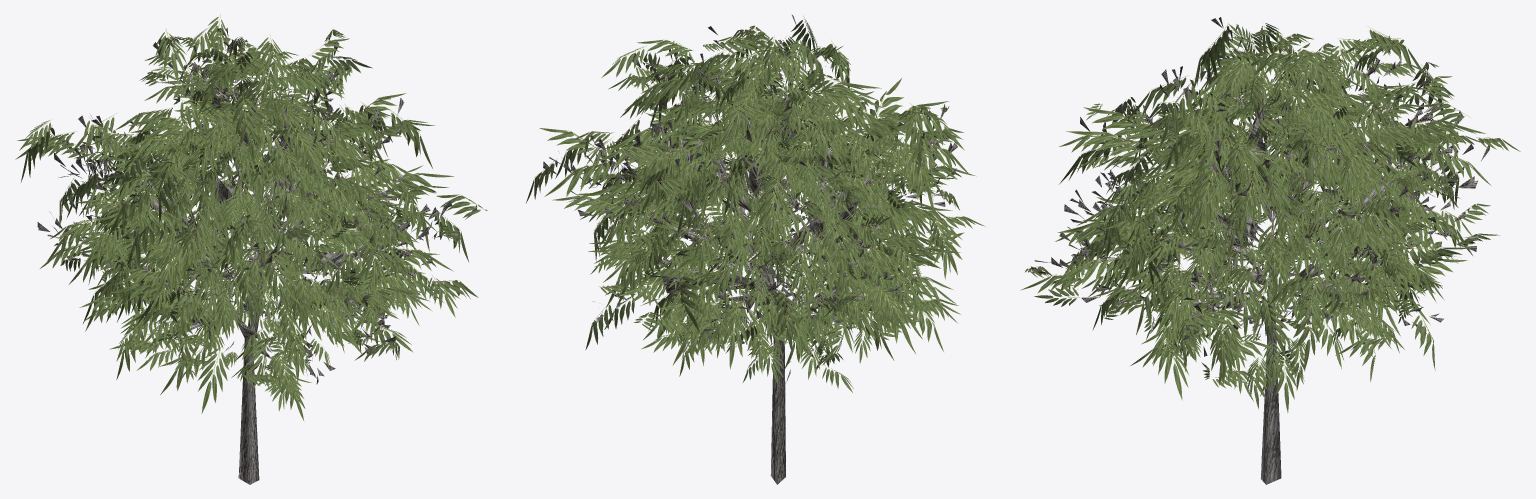
File: tree-oak-tall.glb
3 renders of one model, left to right at view 1: azimuth 30°, elevation 25°; view 2: azimuth 150°, elevation 25°; view 3: azimuth 270°, elevation 25°, orthographic. The views are drawn at different scales.
Visible parts, largest first — view 1: tree-oak-tall; view 2: tree-oak-tall; view 3: tree-oak-tall.
Part boxes in pixels (x1,y1,x2,y2): tree-oak-tall: (15,14,487,484); tree-oak-tall: (526,15,984,484); tree-oak-tall: (1020,17,1520,484).
Size of the model in its own units: 8.47 by 9 by 9.06.
2 materials, 2 textured.
